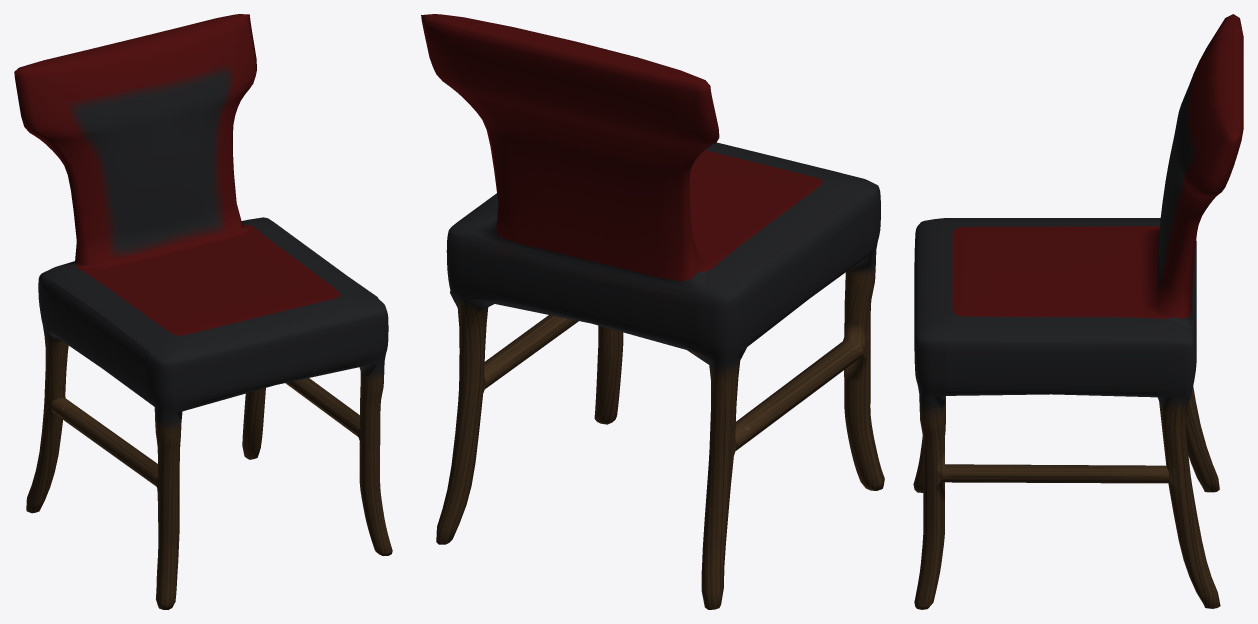
File: chair.fbx
3 renders of one model, left to right at view 1: azimuth 30°, elevation 25°; view 2: azimuth 150°, elevation 25°; view 3: azimuth 270°, elevation 25°, orthographic. The views are drawn at different scales.
Visible parts, largest first — view 1: Chair; view 2: Chair; view 3: Chair.
Boxes of the visible parts, x1,y1,x2,y2 form: Chair: (14, 14, 392, 609); Chair: (421, 14, 884, 609); Chair: (913, 14, 1243, 609).
Size of the model in its own units: 0.9276 by 1.64 by 1.03.
Materials: 1 (1 with a texture image).
